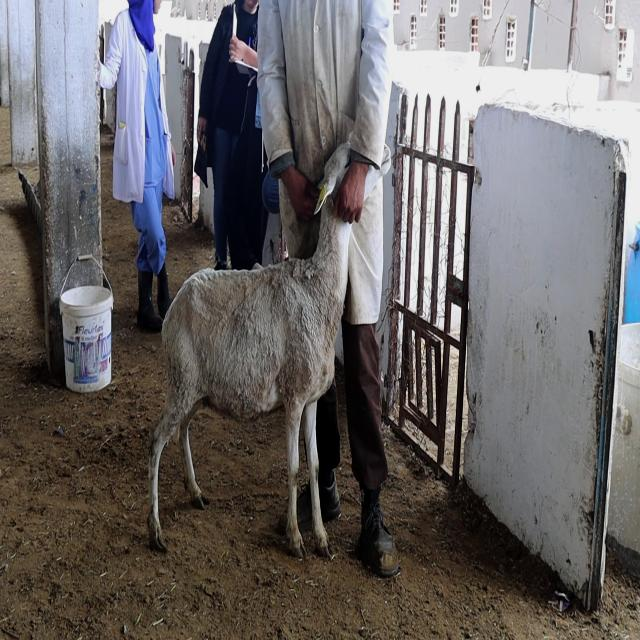Score_1: (147, 142, 352, 558)
